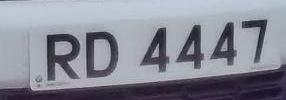4: (137, 20, 175, 79), (174, 17, 210, 77), (207, 15, 243, 75)
7: (243, 13, 278, 71)
D: (81, 25, 122, 85)
R: (38, 27, 90, 88)
